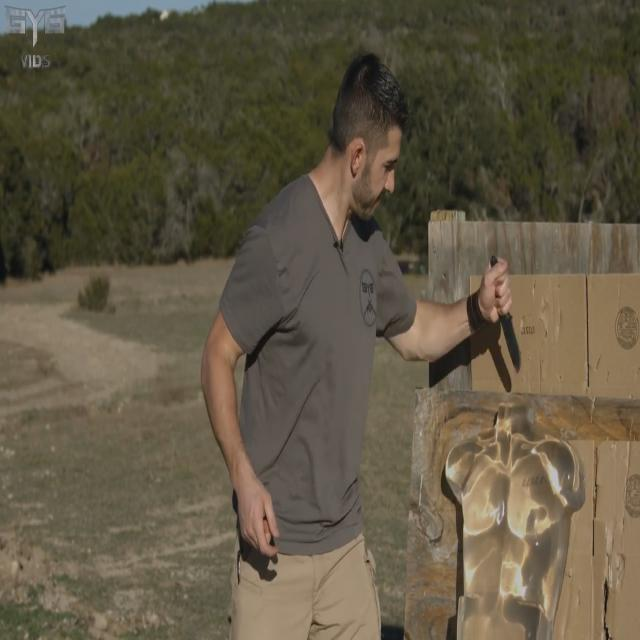knife: (498, 310, 526, 374)
